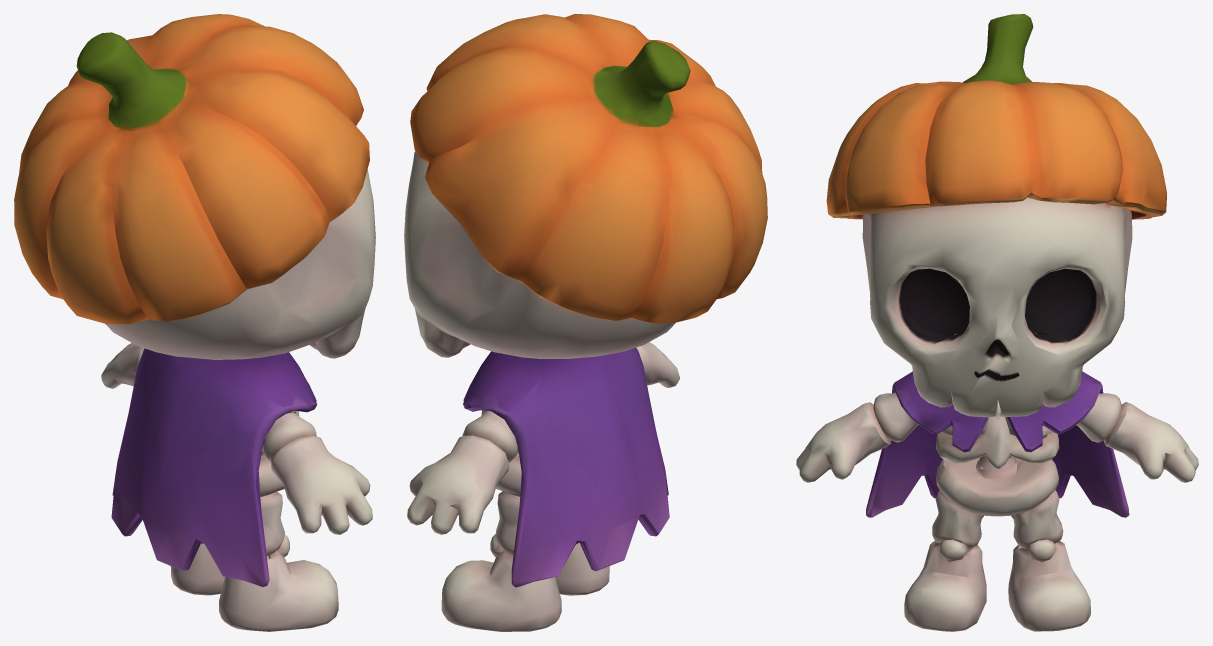
The model's file is E1_Skelly_LOD1.fbx.
3 renders of one model, left to right at view 1: azimuth 30°, elevation 25°; view 2: azimuth 150°, elevation 25°; view 3: azimuth 270°, elevation 25°, orthographic. The views are drawn at different scales.
Visible parts, largest first — view 1: E1_Skelly_LOD1; view 2: E1_Skelly_LOD1; view 3: E1_Skelly_LOD1.
Part boxes in pixels (x1,y1,x2,y2): E1_Skelly_LOD1: (14, 14, 375, 631); E1_Skelly_LOD1: (404, 14, 767, 631); E1_Skelly_LOD1: (796, 14, 1198, 631).
Size of the model in its own units: 0.1142 by 0.2 by 0.1359.
Materials: 1 (1 with a texture image).
